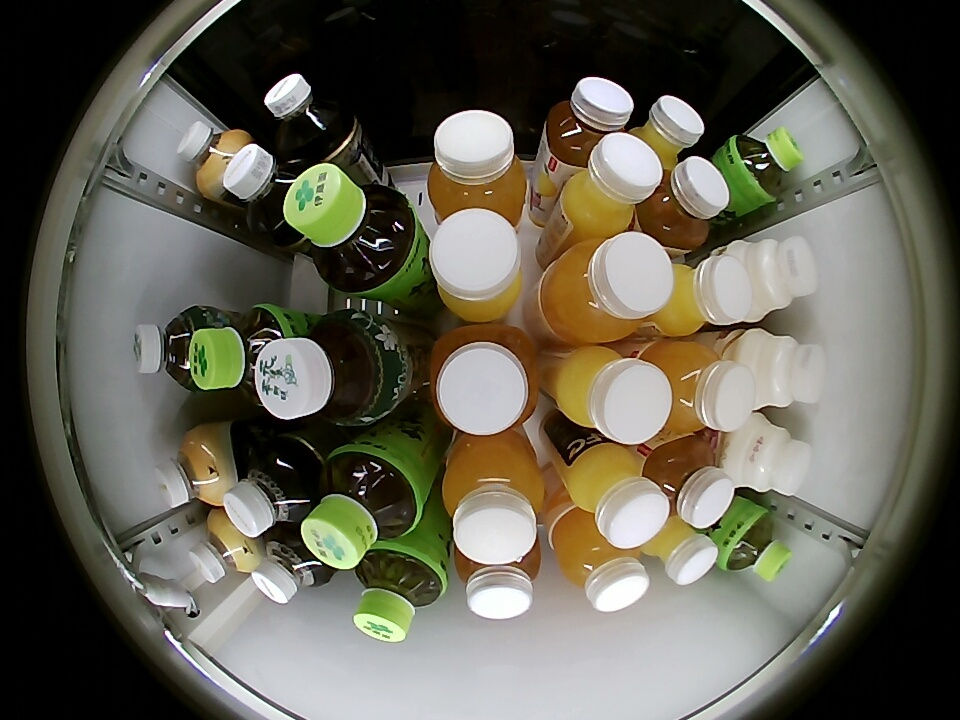asamu: (153, 429, 229, 508), (177, 121, 249, 197), (189, 512, 258, 583)
chapai: (428, 324, 539, 436), (634, 157, 729, 253), (642, 438, 734, 529), (545, 77, 634, 167), (455, 540, 542, 619)
moliqingcha: (256, 310, 402, 427), (132, 306, 215, 391)
nfc: (561, 441, 668, 549), (557, 345, 672, 444), (429, 208, 524, 321), (558, 133, 661, 237), (647, 253, 753, 337), (626, 95, 705, 168), (641, 515, 717, 585)
weic: (540, 231, 674, 343), (441, 437, 546, 565), (426, 111, 528, 229), (638, 339, 755, 437), (549, 506, 649, 611)
wulongcha: (222, 441, 314, 538), (224, 145, 314, 239), (264, 73, 346, 156), (252, 527, 334, 603)
yingyangkuaixian: (729, 327, 826, 409), (728, 236, 818, 322), (721, 414, 812, 495)
yitengyuan: (285, 165, 419, 296), (302, 441, 424, 570), (193, 303, 304, 412), (353, 541, 447, 644), (722, 127, 804, 208), (716, 503, 793, 582)
